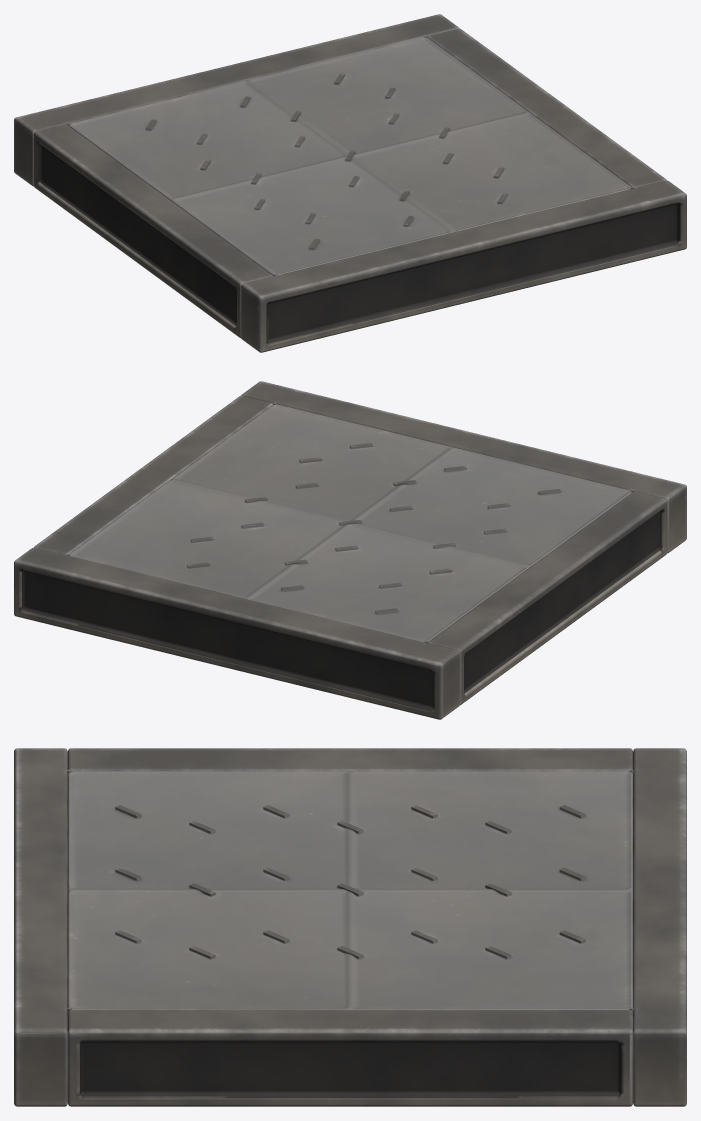
Rendered from SM_Foundation.glb.
The picture shows the model from 3 angles, top to bottom: view 1: azimuth 30°, elevation 25°; view 2: azimuth 150°, elevation 25°; view 3: azimuth 270°, elevation 25°; orthographic projection. The views are drawn at different scales.
Parts seen in each view (by area): view 1: SM_Foundation; view 2: SM_Foundation; view 3: SM_Foundation.
Boxes of the visible parts, x1,y1,x2,y2 form: SM_Foundation: (14,14,686,352); SM_Foundation: (14,381,686,719); SM_Foundation: (14,748,686,1106).
Bounding box in the file's own units: 2 × 0.252 × 2.
Materials: 4 (4 with a texture image).
